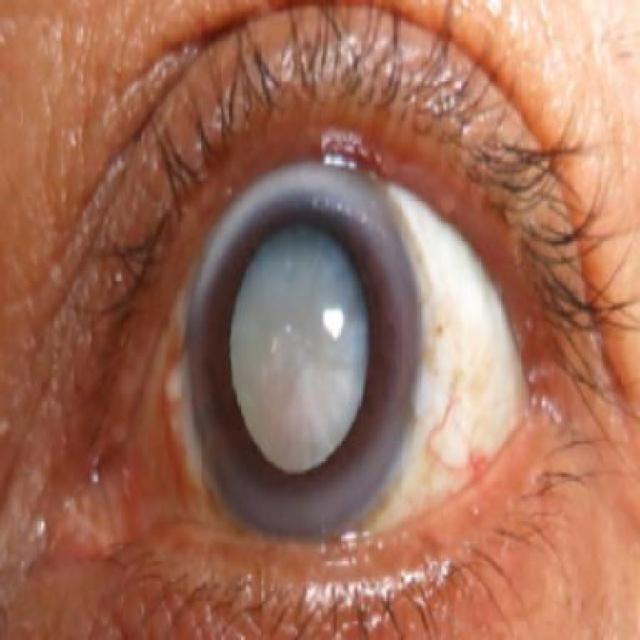Cataract: (179, 150, 429, 549)
